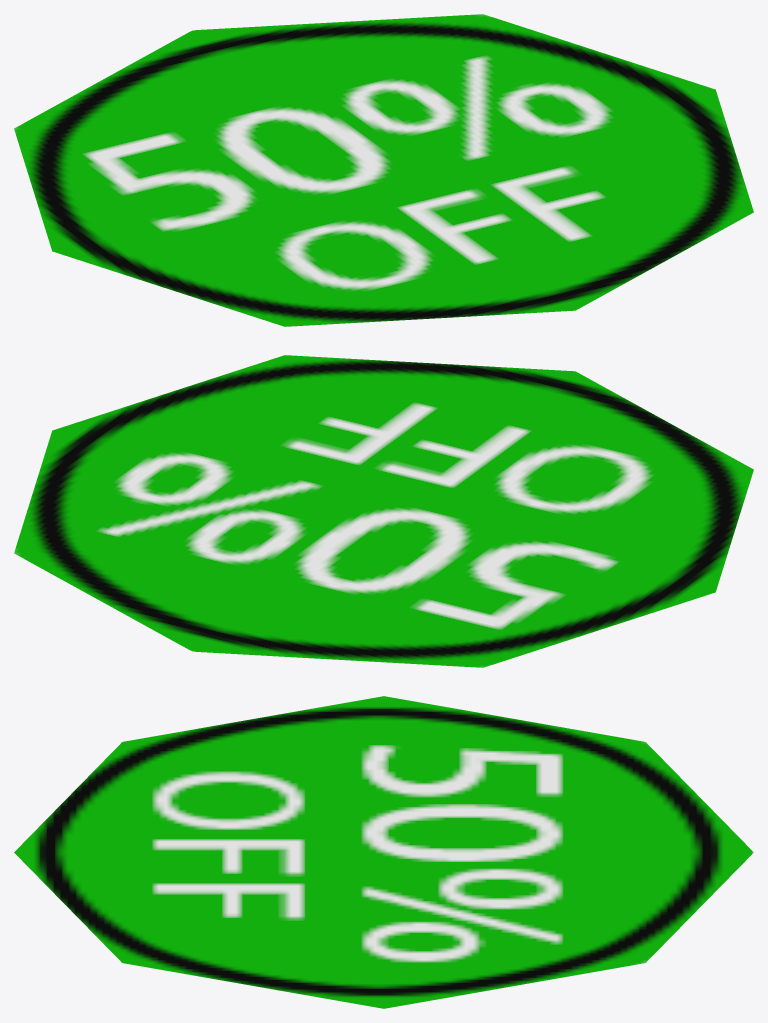
The model's file is Green_Circle_Sale.fbx.
The picture shows the model from 3 angles, top to bottom: view 1: azimuth 30°, elevation 25°; view 2: azimuth 150°, elevation 25°; view 3: azimuth 270°, elevation 25°; orthographic projection. The views are drawn at different scales.
Visible parts, largest first — view 1: pCylinder3; view 2: pCylinder3; view 3: pCylinder3.
Part boxes in pixels (<box>): pCylinder3: <box>14,14,753,326</box>; pCylinder3: <box>14,355,753,667</box>; pCylinder3: <box>14,696,753,1008</box>.
Size of the model in its own units: 2 by 0 by 2.
